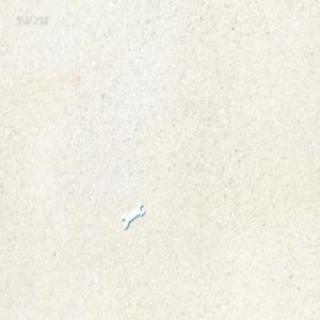Wrenchtrack_idkeyframe: (121, 203, 144, 230)
